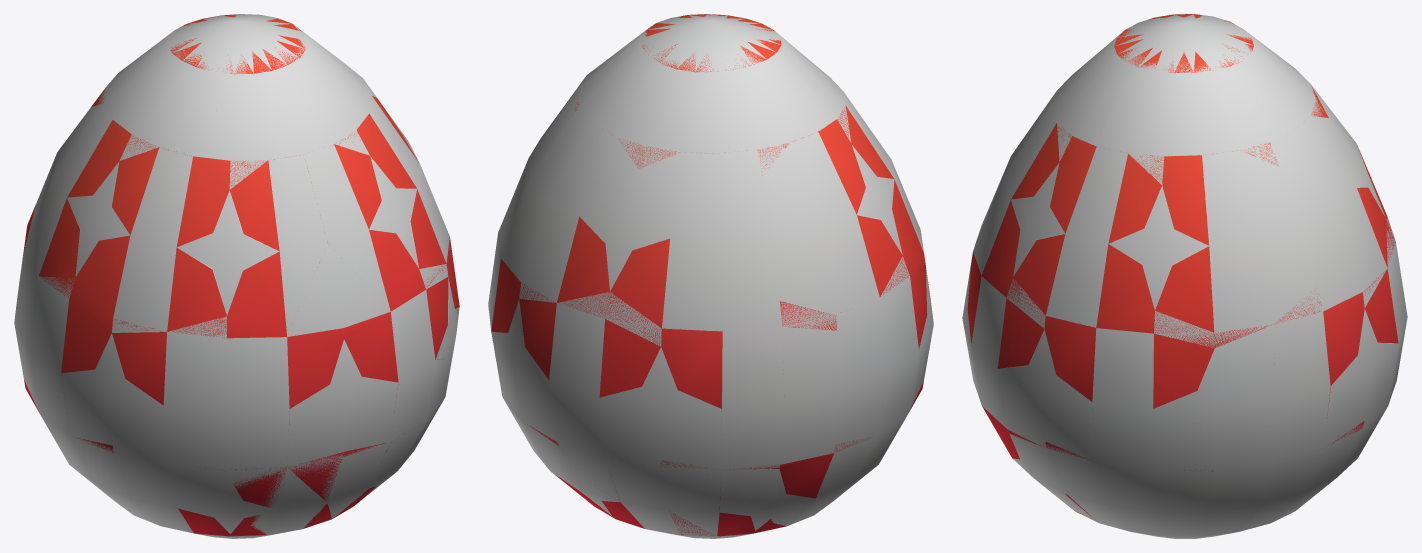
Rendered from Egg.fbx.
The picture shows the model from 3 angles, left to right: view 1: azimuth 30°, elevation 25°; view 2: azimuth 150°, elevation 25°; view 3: azimuth 270°, elevation 25°; orthographic projection.
Visible parts, largest first — view 1: EGG, EGG3; view 2: EGG, EGG3; view 3: EGG, EGG3.
Part boxes in pixels (x1,y1,x2,y2): EGG: (14, 14, 459, 538); EGG3: (23, 14, 459, 536); EGG: (488, 14, 933, 538); EGG3: (491, 14, 930, 536); EGG: (962, 14, 1407, 538); EGG3: (967, 14, 1398, 521).
Bounding box in the file's own units: 0.2571 × 0.3191 × 0.2589.
